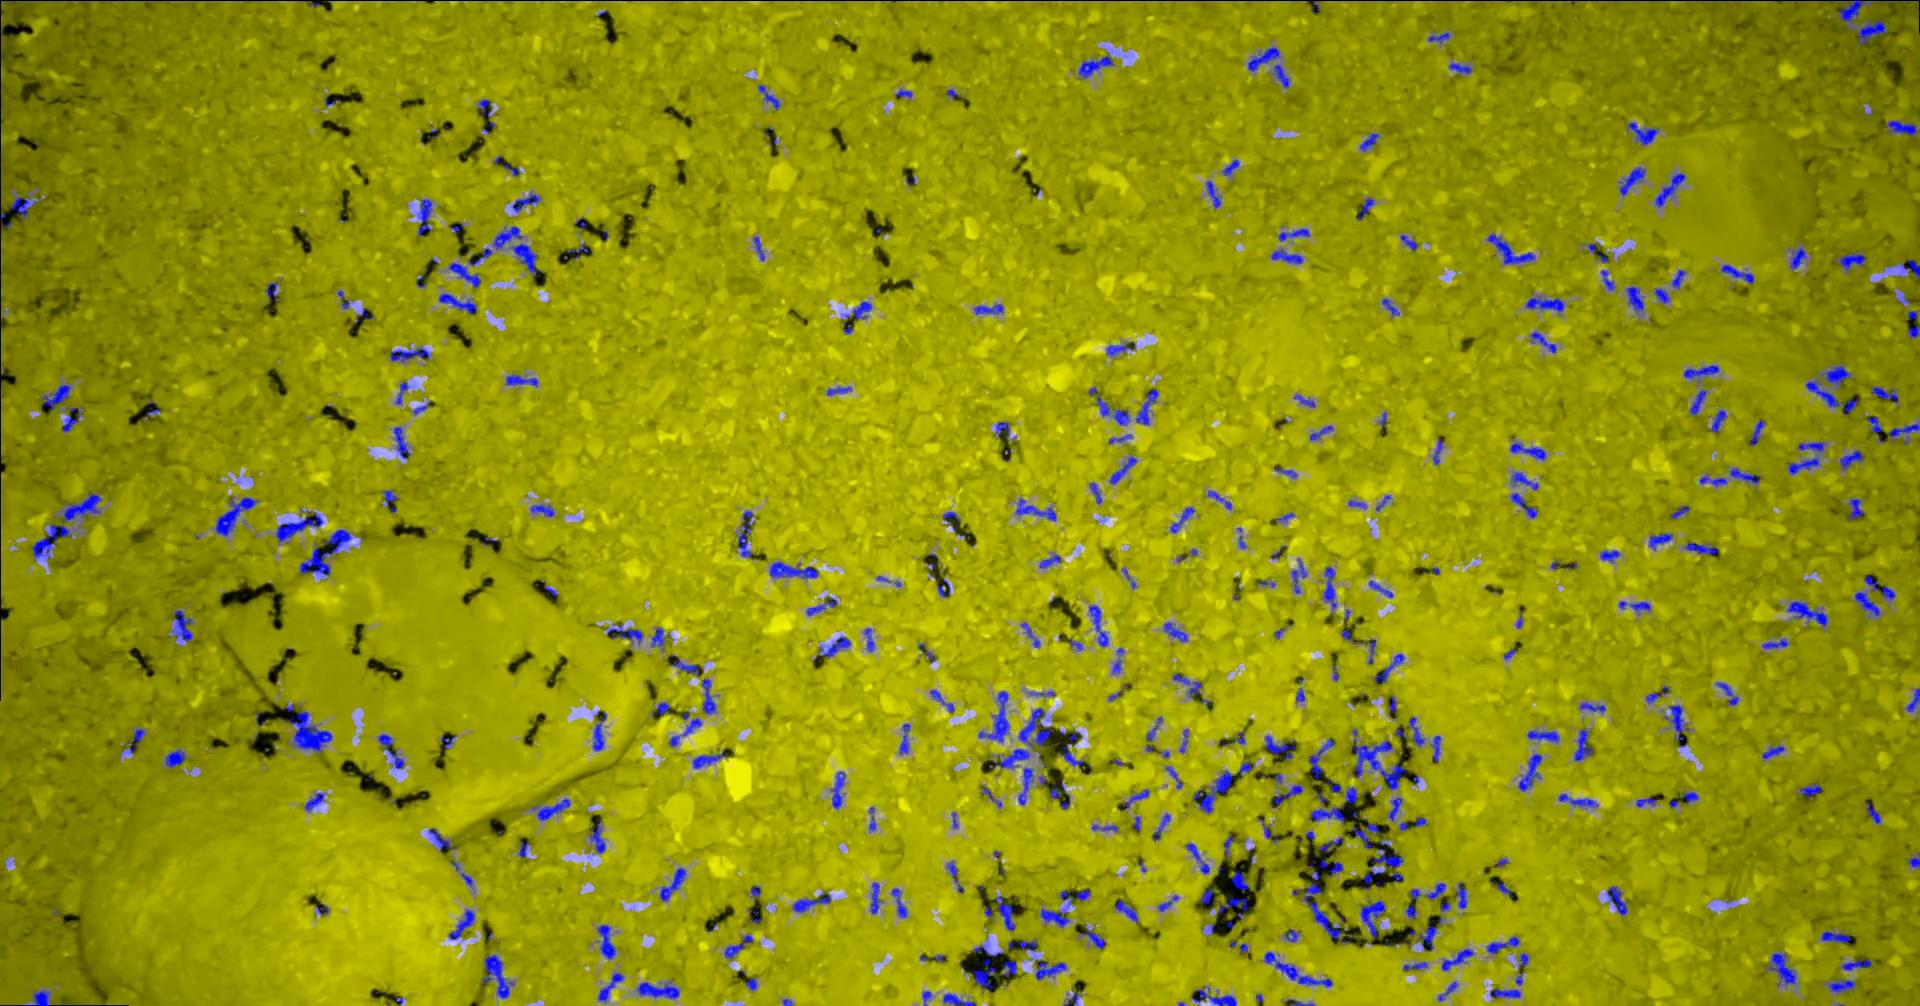ant: (1302, 862, 1351, 942), (1351, 729, 1404, 789), (298, 528, 352, 575), (491, 226, 541, 276), (1263, 951, 1332, 986), (1816, 0, 1919, 22), (281, 711, 331, 752), (1363, 838, 1403, 889), (1804, 380, 1858, 414), (215, 495, 258, 536), (1192, 770, 1232, 813), (978, 690, 1010, 742), (1486, 232, 1535, 264), (481, 954, 514, 998), (276, 511, 323, 541), (971, 945, 1003, 989), (1058, 730, 1090, 774), (1018, 708, 1051, 747), (1341, 629, 1375, 664), (1655, 171, 1685, 207), (1787, 600, 1827, 626), (1308, 738, 1335, 779), (1663, 704, 1689, 746), (1309, 791, 1345, 821), (1096, 396, 1129, 426), (1768, 951, 1796, 986), (1015, 498, 1055, 521), (811, 636, 850, 661), (1517, 753, 1542, 791), (378, 733, 404, 768), (1360, 901, 1385, 936), (531, 798, 570, 821), (1374, 653, 1404, 682), (659, 868, 686, 901), (1088, 605, 1109, 647), (791, 890, 830, 912), (1191, 986, 1236, 1005), (1135, 387, 1158, 424), (447, 262, 480, 287), (988, 748, 1029, 768), (1109, 455, 1137, 484), (1857, 18, 1887, 44), (597, 972, 623, 1002), (1247, 46, 1279, 71), (606, 622, 643, 644), (1078, 55, 1112, 77), (1618, 166, 1644, 196), (42, 384, 71, 410), (737, 511, 753, 558), (770, 561, 817, 578), (438, 293, 476, 314), (1863, 575, 1895, 600), (1263, 735, 1295, 760), (0, 0, 50, 15), (1172, 673, 1201, 699), (448, 909, 474, 939), (636, 982, 681, 998), (1217, 895, 1248, 918), (1441, 948, 1473, 970), (1719, 263, 1752, 285), (1510, 492, 1537, 518), (1351, 822, 1378, 848), (10, 193, 38, 218), (1185, 843, 1209, 873), (723, 934, 752, 958), (994, 895, 1015, 930), (1627, 122, 1658, 144), (1410, 882, 1445, 901), (596, 923, 615, 959), (171, 608, 192, 641), (1509, 442, 1545, 460), (1854, 591, 1879, 616), (1034, 959, 1065, 979), (1170, 506, 1194, 532), (389, 347, 430, 362), (692, 749, 725, 768), (1820, 365, 1850, 385), (1323, 567, 1336, 615), (119, 728, 143, 753), (1683, 365, 1719, 381), (1525, 296, 1564, 311), (1272, 784, 1302, 804), (392, 426, 410, 459), (1290, 558, 1307, 593), (1573, 728, 1591, 761), (930, 688, 954, 713), (757, 84, 780, 109), (1039, 908, 1069, 927), (428, 828, 455, 850), (670, 654, 698, 674), (1120, 789, 1148, 809), (1884, 119, 1919, 136), (1787, 456, 1818, 474), (1017, 767, 1032, 804), (510, 193, 540, 212), (1716, 681, 1738, 705), (1114, 899, 1137, 923), (592, 710, 606, 749), (1558, 793, 1597, 807), (1049, 782, 1070, 808), (1079, 926, 1105, 948), (946, 860, 963, 893), (1486, 936, 1519, 953), (1529, 332, 1556, 352), (805, 597, 836, 615), (589, 818, 604, 854), (1059, 888, 1090, 906), (1606, 887, 1625, 915), (1726, 467, 1757, 484), (61, 406, 83, 431), (417, 198, 430, 235), (830, 771, 844, 808), (1839, 251, 1865, 271), (844, 300, 871, 319), (1150, 813, 1170, 840), (890, 887, 907, 917), (1510, 471, 1538, 489), (701, 678, 715, 714), (1418, 923, 1436, 951), (1839, 448, 1863, 469), (1163, 621, 1187, 641), (681, 711, 701, 735), (1257, 817, 1277, 841), (1890, 423, 1919, 439), (1625, 286, 1643, 312), (1020, 622, 1039, 647), (1408, 716, 1423, 746), (1270, 249, 1302, 263), (869, 882, 883, 913), (1689, 389, 1705, 415), (469, 246, 491, 265), (1208, 490, 1230, 509), (1644, 685, 1669, 702), (1205, 180, 1220, 208), (1870, 386, 1898, 401), (1867, 417, 1883, 442), (1318, 857, 1343, 874), (1515, 951, 1528, 984), (1106, 340, 1135, 354), (1356, 197, 1374, 220), (1749, 418, 1764, 445), (23, 989, 50, 1005), (1277, 227, 1309, 240), (505, 373, 537, 386), (1618, 601, 1650, 614), (1272, 64, 1289, 88), (1789, 246, 1806, 271), (1648, 532, 1672, 549), (1368, 580, 1392, 597), (1145, 716, 1162, 741), (563, 243, 588, 258), (1820, 930, 1850, 942), (164, 749, 185, 767), (1230, 869, 1248, 890), (1490, 880, 1511, 898), (1709, 409, 1726, 432), (1684, 542, 1717, 554), (942, 993, 975, 1005), (1829, 978, 1855, 992), (1841, 958, 1870, 970), (1900, 258, 1919, 277), (996, 420, 1015, 439), (650, 627, 669, 647), (899, 723, 910, 754), (1526, 730, 1558, 742), (982, 788, 1001, 807), (1437, 981, 1457, 1000), (1164, 766, 1181, 788), (1799, 782, 1821, 799), (1157, 894, 1178, 911), (1699, 474, 1727, 486), (1865, 798, 1879, 823), (1848, 497, 1863, 520), (1359, 133, 1378, 151), (303, 793, 323, 810), (1309, 426, 1333, 439), (1200, 887, 1214, 911), (1293, 392, 1316, 406), (1905, 688, 1919, 711), (1318, 837, 1341, 851), (917, 643, 935, 661), (973, 304, 1003, 314), (752, 236, 764, 260), (1388, 796, 1401, 821), (1039, 554, 1060, 568), (1222, 159, 1239, 175), (1399, 234, 1417, 250), (337, 290, 353, 307), (1382, 298, 1399, 315), (395, 381, 408, 404), (1600, 269, 1614, 290), (1797, 441, 1825, 451), (1669, 506, 1689, 520), (1763, 746, 1783, 760), (1272, 466, 1297, 478), (1427, 30, 1449, 43), (143, 401, 159, 419), (1761, 638, 1788, 648), (1112, 647, 1123, 673), (1578, 702, 1605, 713), (1430, 735, 1440, 762), (1455, 882, 1465, 908), (1490, 988, 1520, 997), (1671, 269, 1685, 288), (651, 701, 670, 715), (530, 504, 552, 516), (1223, 832, 1233, 857), (1001, 959, 1016, 976), (1062, 991, 1079, 1005), (265, 282, 277, 304), (1090, 481, 1101, 503), (1432, 439, 1443, 464), (863, 627, 874, 652), (1448, 62, 1470, 72), (382, 490, 397, 506), (1599, 550, 1619, 561), (1238, 761, 1253, 776), (477, 99, 491, 116), (942, 511, 959, 525), (1324, 779, 1341, 793), (825, 386, 851, 395), (1018, 939, 1036, 951), (1402, 962, 1427, 970), (1295, 677, 1304, 701), (1655, 288, 1669, 304), (936, 579, 949, 596), (1283, 929, 1299, 941), (518, 840, 530, 857), (1345, 788, 1357, 803), (1636, 796, 1655, 807), (1285, 998, 1314, 1005), (1091, 824, 1117, 831), (1907, 324, 1919, 338), (1907, 854, 1919, 868), (750, 885, 759, 903), (1683, 791, 1698, 801), (869, 807, 875, 829), (1404, 904, 1415, 917), (0, 149, 1, 206)
